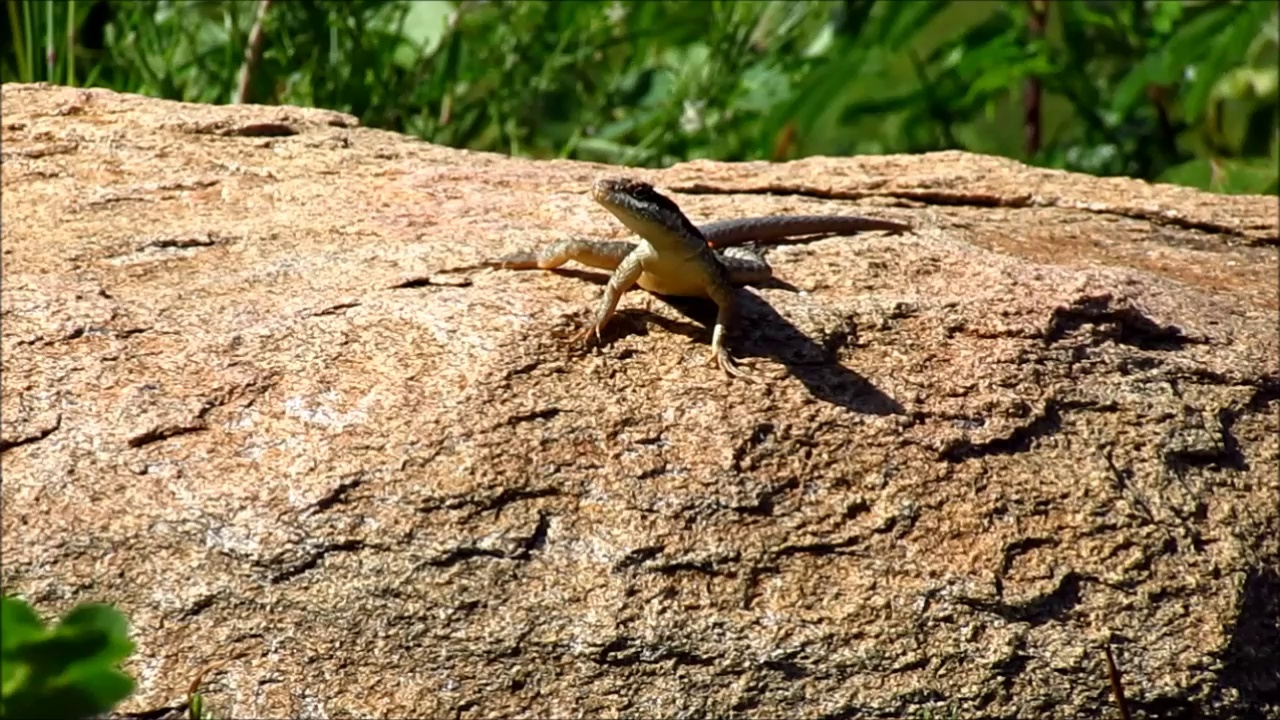body: (481, 213, 916, 383)
head: (592, 176, 676, 240)
